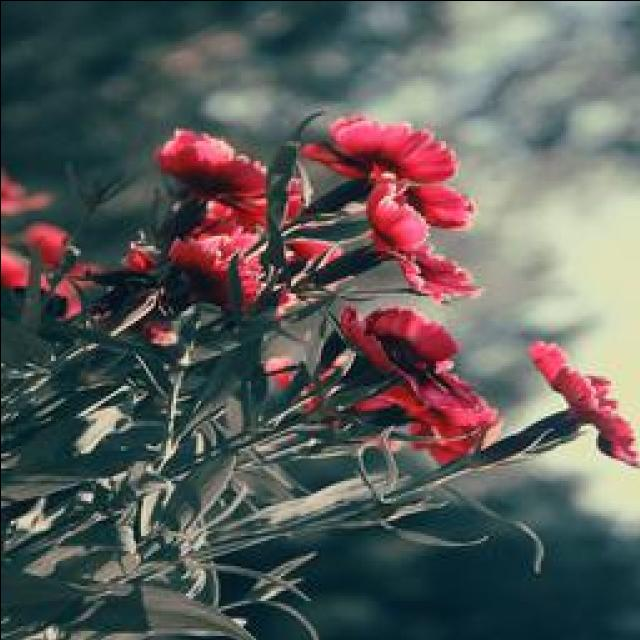carnation: (304, 100, 470, 188)
